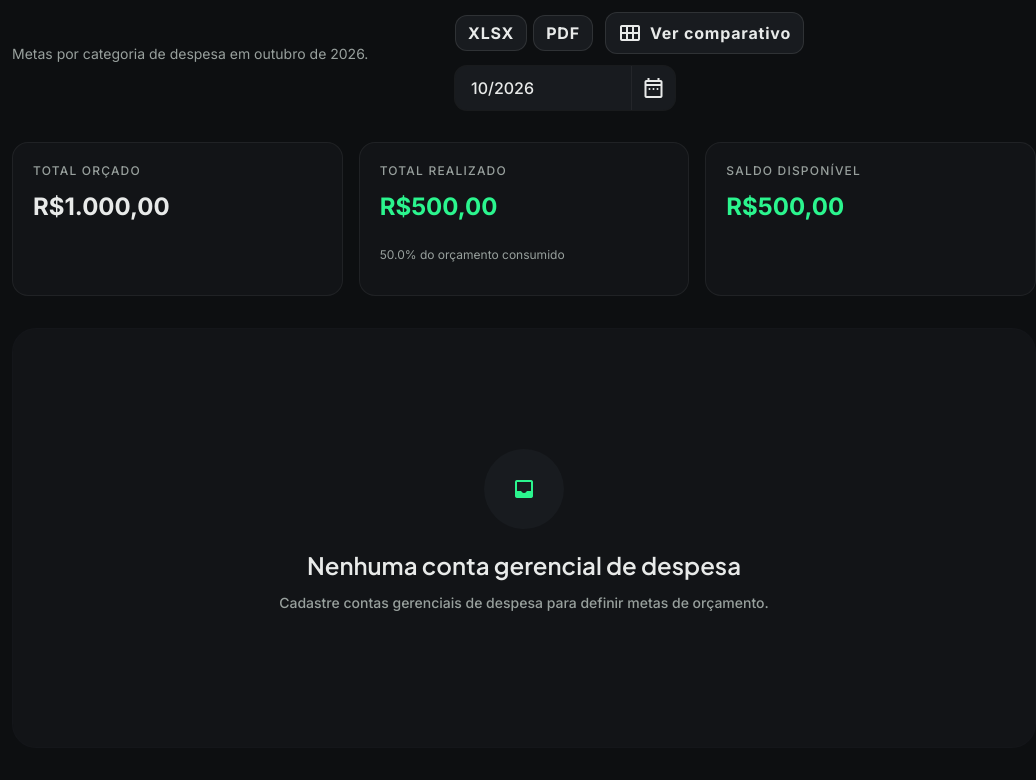
Test: OrcamentoPage › toggles to multi-periodo view
This screenshot has width=1036, height=780.
Expected: the heading "Nenhuma conta gerencial de despesa" is shown, [307,549,741,581]
Click the button "Ver comparativo": (704, 33) [605,12,804,54]
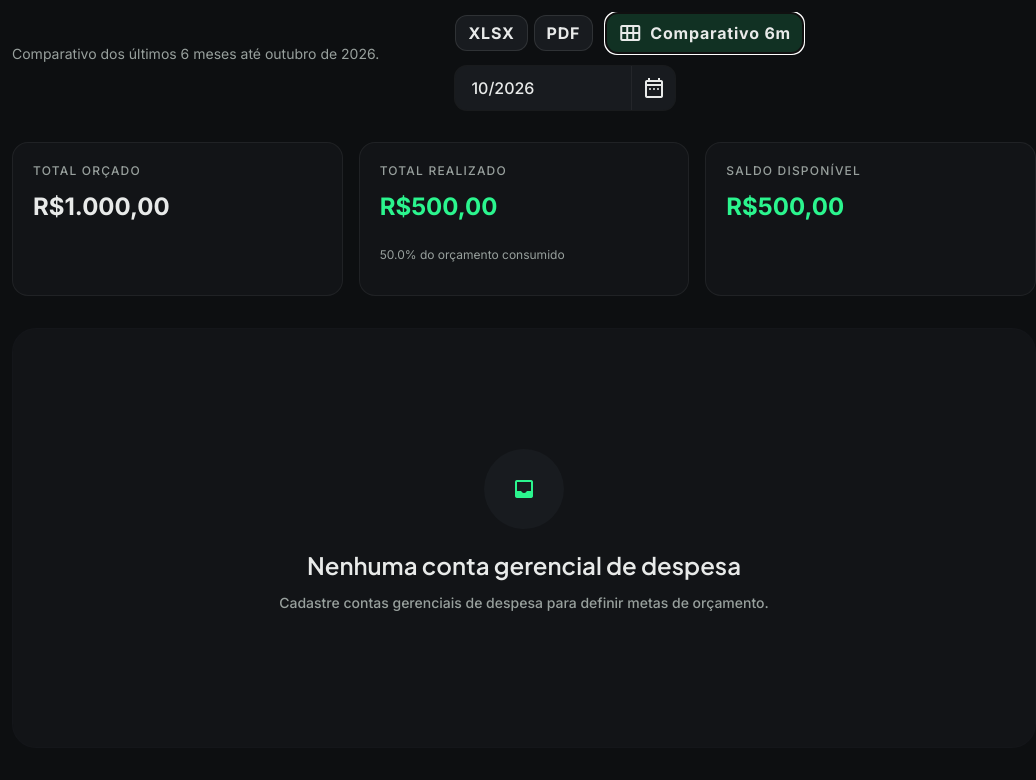
Result: the text "Comparativo dos últimos 6 meses até outubro de 2026." is shown at [12,44,379,64]
